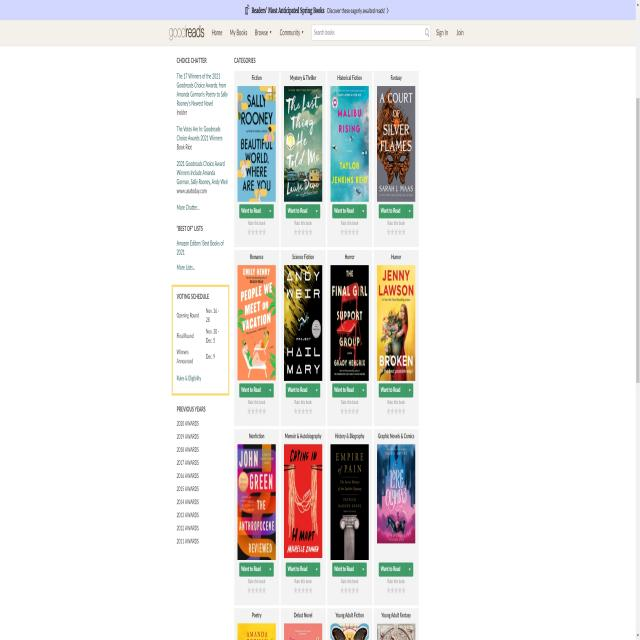menu-bar: (208, 21, 310, 43)
search: (312, 22, 432, 43)
side-panel: (177, 68, 228, 549)
